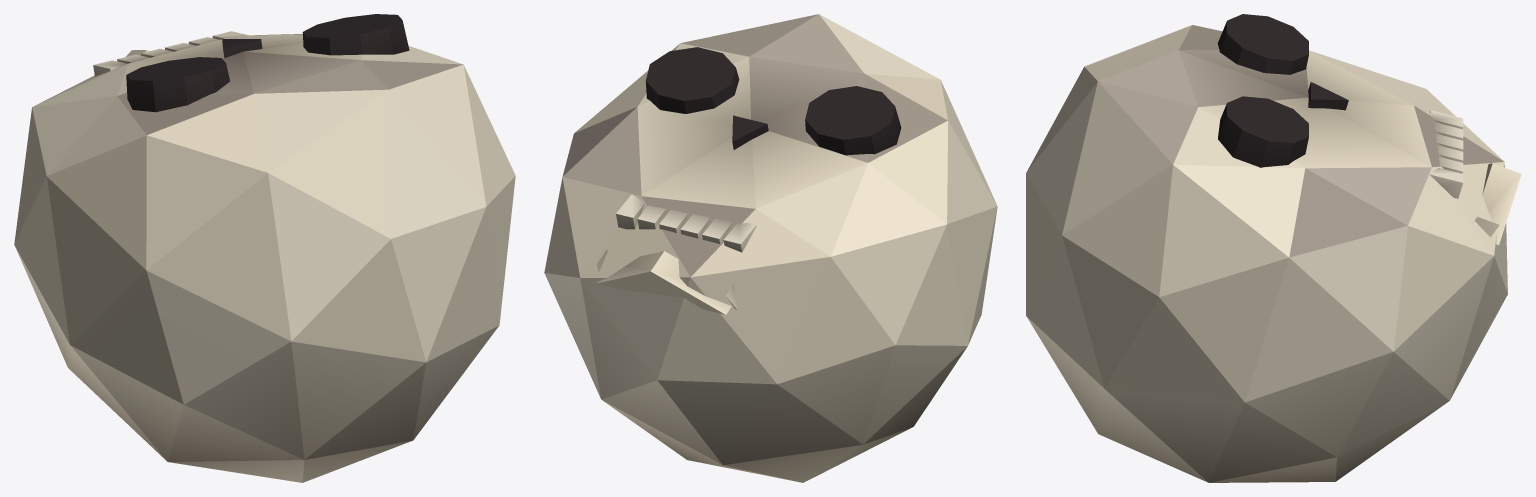
Rendered from ash_skull.glb.
3 renders of one model, left to right at view 1: azimuth 30°, elevation 25°; view 2: azimuth 150°, elevation 25°; view 3: azimuth 270°, elevation 25°, orthographic. The views are drawn at different scales.
Parts seen in each view (by area): view 1: ca_ash_skull; view 2: ca_ash_skull; view 3: ca_ash_skull.
Part boxes in pixels (left/top/right/bottom): ca_ash_skull: left=14, top=14, right=515, bottom=482; ca_ash_skull: left=544, top=14, right=997, bottom=482; ca_ash_skull: left=1026, top=14, right=1521, bottom=482.
Size of the model in its own units: 1.09 by 1.06 by 1.19.
Materials: 1 (1 with a texture image).
